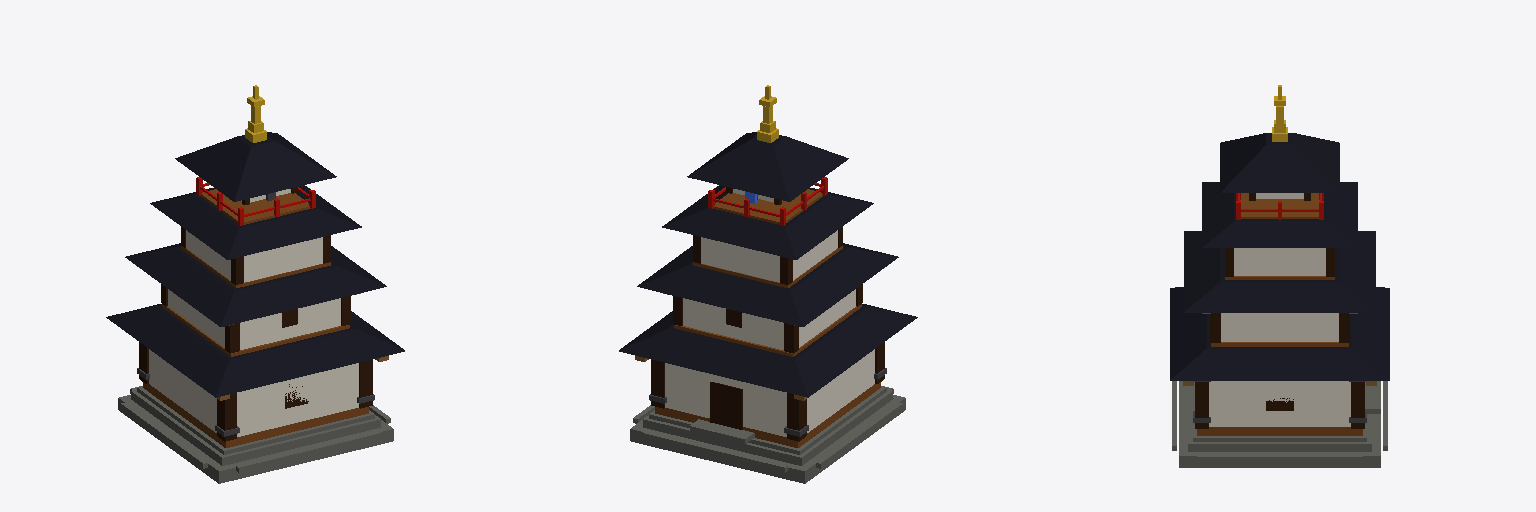
File: sniper_t2.obj
The picture shows the model from 3 angles: view 1: azimuth 30°, elevation 25°; view 2: azimuth 150°, elevation 25°; view 3: azimuth 270°, elevation 25°; orthographic projection.
Size of the model in its own units: 24 by 40.8 by 24.